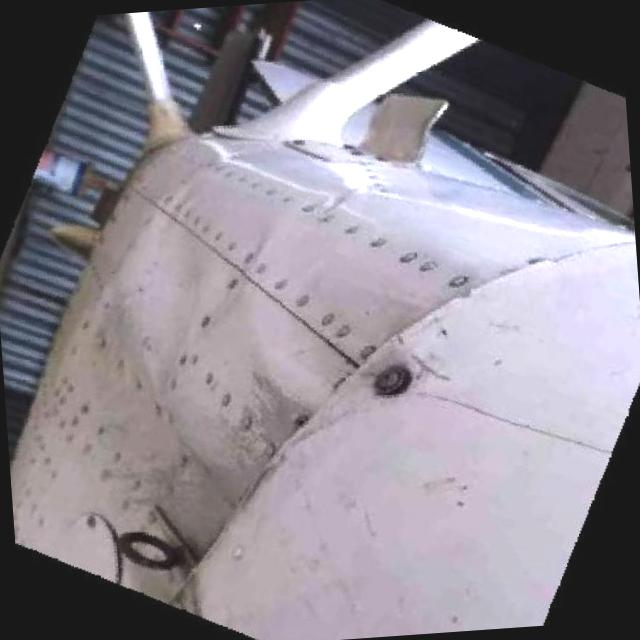dent: (261, 284, 431, 402), (121, 230, 212, 393)
